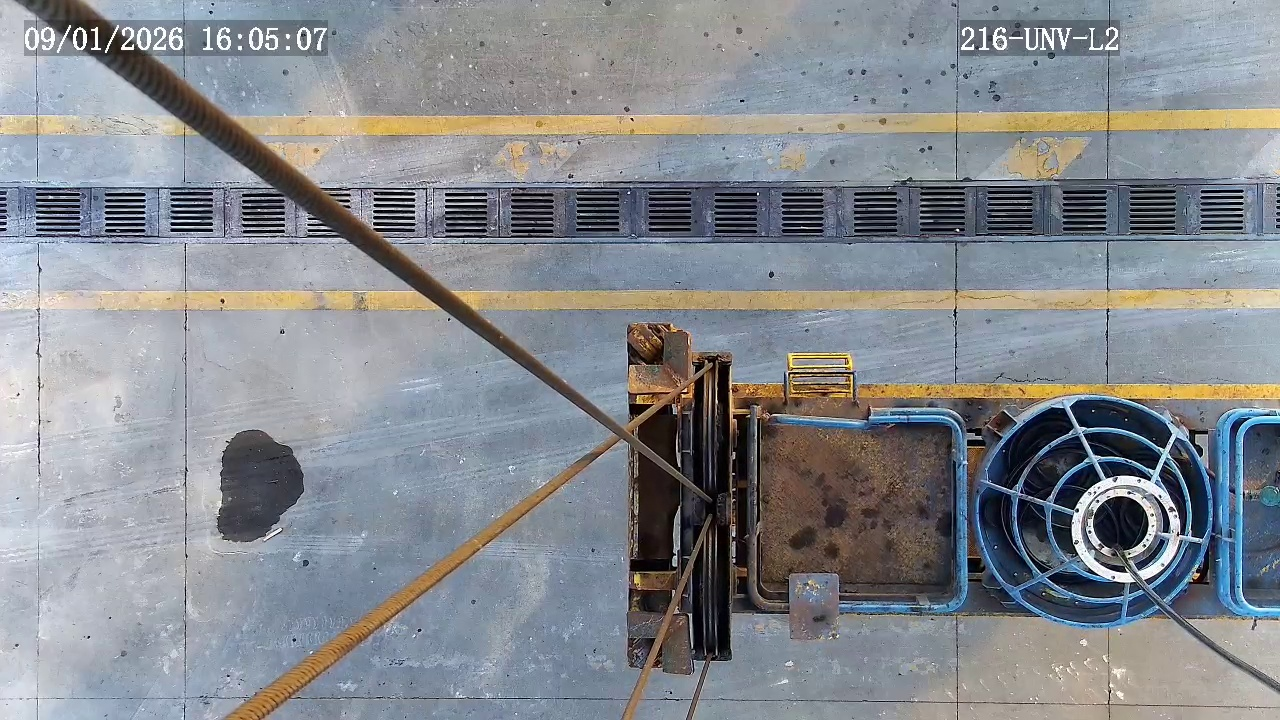left: (1071, 475, 1182, 580)
